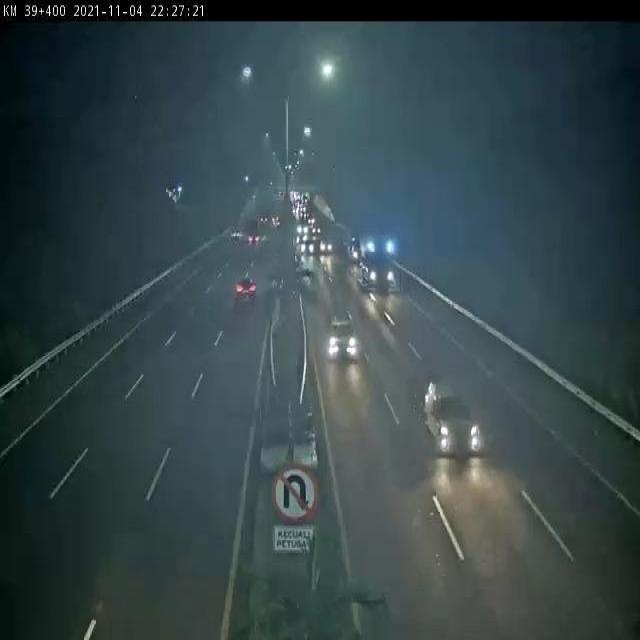car: (422, 380, 483, 453), (326, 307, 359, 361), (232, 276, 260, 305)
truck-m-: (364, 232, 404, 291)
